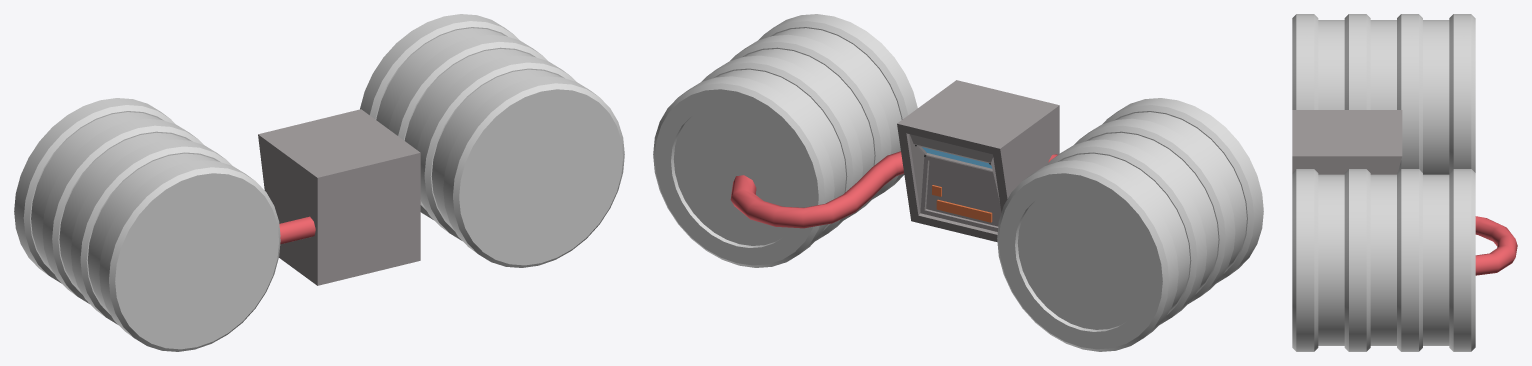
Rendered from WaterCleaner.fbx.
3 views of the same model, side by side, from view 1: azimuth 30°, elevation 25°; view 2: azimuth 150°, elevation 25°; view 3: azimuth 270°, elevation 25° (orthographic). The views are drawn at different scales.
Parts seen in each view (by area): view 1: CleanWaterContainerFrame, DirtyWaterContainerFrame, Computer, CleanGlassContainer, DirtyGlassContainer, Pipe; view 2: CleanWaterContainerFrame, DirtyWaterContainerFrame, CleanGlassContainer, DirtyGlassContainer, Computer, Pipe, Key_Space; view 3: DirtyWaterContainerFrame, DirtyGlassContainer, CleanWaterContainerFrame, CleanGlassContainer, Computer, Pipe.
Part boxes in pixels (x1=…): CleanWaterContainerFrame: x1=14, y1=98, x2=280, y2=351; DirtyWaterContainerFrame: x1=360, y1=14, x2=624, y2=267; Computer: x1=258, y1=109, x2=420, y2=285; CleanGlassContainer: x1=31, y1=112, x2=216, y2=310; DirtyGlassContainer: x1=376, y1=28, x2=560, y2=226; Pipe: x1=279, y1=216, x2=315, y2=244; CleanWaterContainerFrame: x1=997, y1=98, x2=1263, y2=351; DirtyWaterContainerFrame: x1=653, y1=14, x2=917, y2=267; CleanGlassContainer: x1=1017, y1=112, x2=1246, y2=329; DirtyGlassContainer: x1=673, y1=28, x2=901, y2=245; Computer: x1=897, y1=80, x2=1059, y2=241; Pipe: x1=730, y1=151, x2=1057, y2=228; Key_Space: x1=936, y1=199, x2=992, y2=222; DirtyWaterContainerFrame: x1=1292, y1=169, x2=1475, y2=351; DirtyGlassContainer: x1=1318, y1=174, x2=1449, y2=345; CleanWaterContainerFrame: x1=1292, y1=14, x2=1475, y2=172; CleanGlassContainer: x1=1318, y1=20, x2=1449, y2=174; Computer: x1=1292, y1=110, x2=1402, y2=174; Pipe: x1=1475, y1=216, x2=1517, y2=275.
Bounding box in the file's own units: 600 × 200 × 246.
